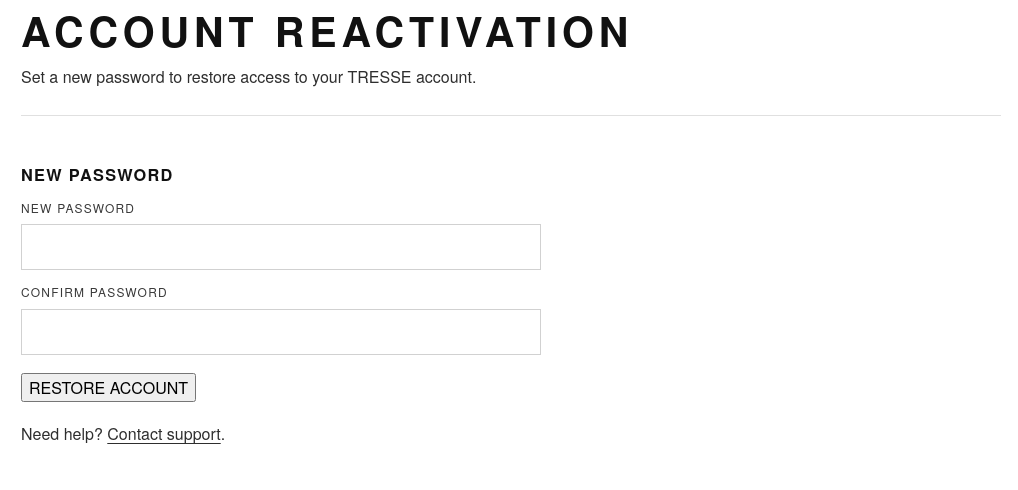
Test: AccountRestore - submission › shows a server error message when the token is invalid or expired
The width and height of the screenshot is (1018, 490).
Type "NewStrongPass123" into the password field labelled "New Password". click: coordinates (281, 247)
box: [21,224,541,270]
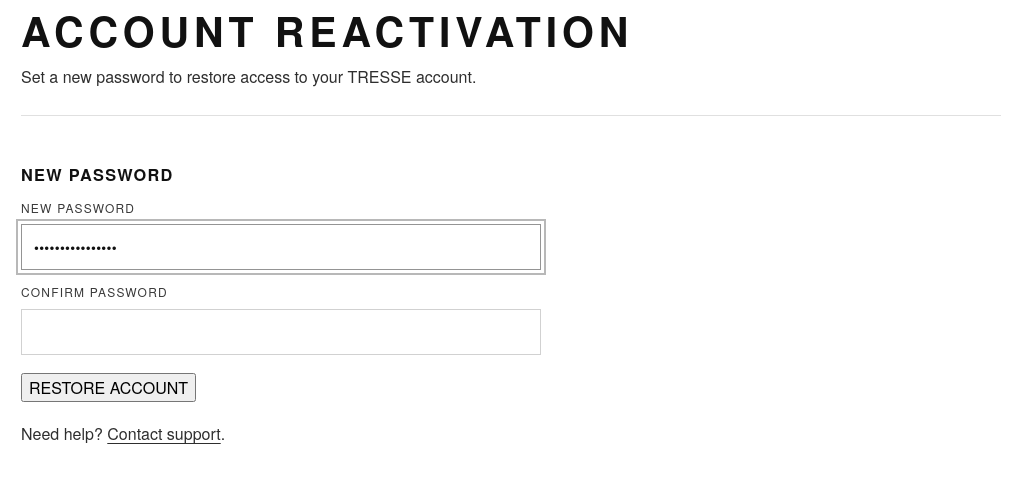
Type "NewStrongPass123" into the password field labelled "Confirm Password". click: coordinates (281, 332)
box: [21,309,541,355]
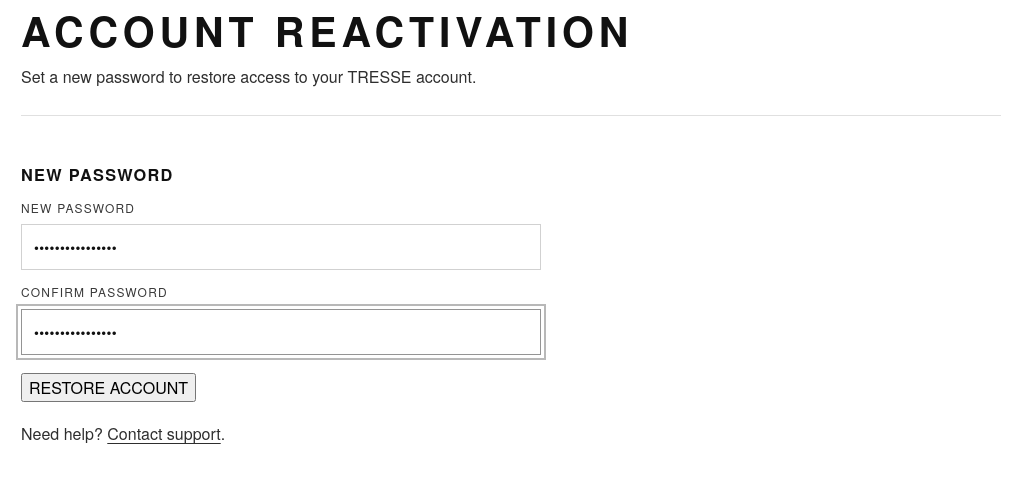
Click the button "RESTORE ACCOUNT". click: coordinates (109, 388)
box: [21,373,196,402]
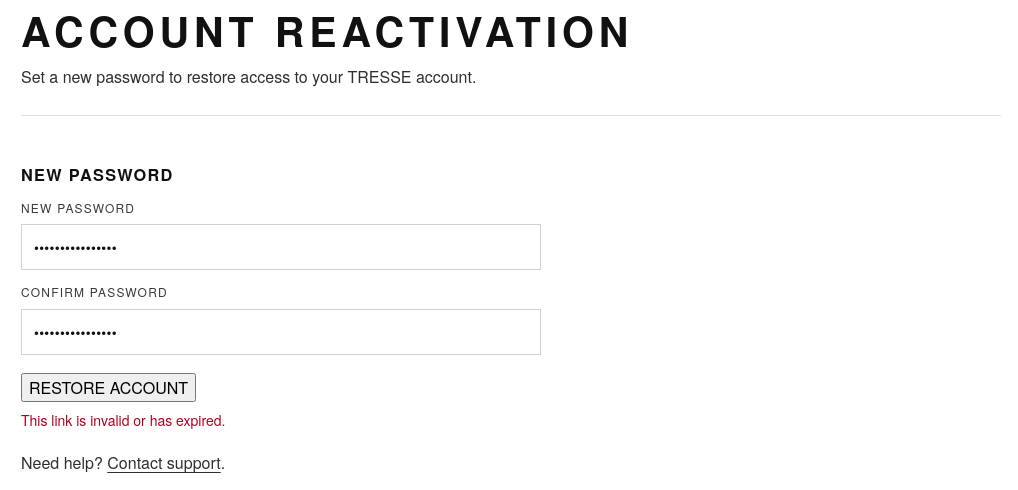
Result: the text "This link is invalid or has expired." is shown at [21,410,225,430]
